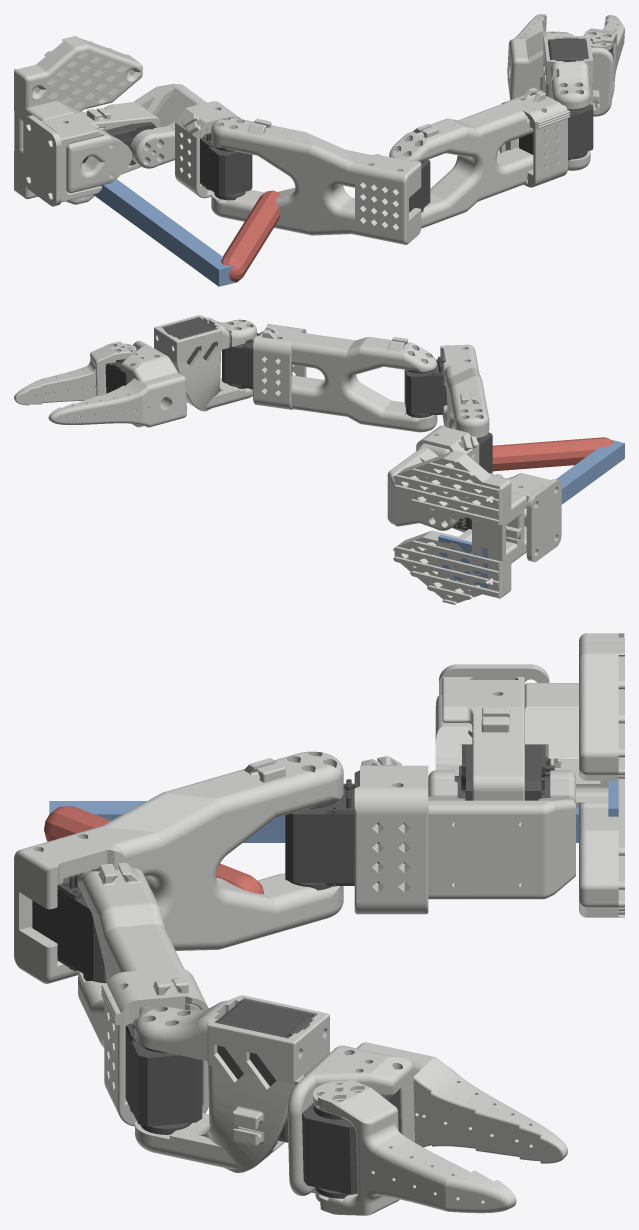
The model's file is so101_assembly.glb.
The picture shows the model from 3 angles, top to bottom: view 1: azimuth 30°, elevation 25°; view 2: azimuth 150°, elevation 25°; view 3: azimuth 270°, elevation 25°; orthographic projection. The views are drawn at different scales.
Visible parts, largest first — view 1: upper_arm_so101_v1, base_so101_v2, under_arm_so101_v1, muscle_mast, wrist_roll_follower_so101_v1, motor_holder_so101_wrist_v1, rotation_pitch_so101_v1, base_motor_holder_so101_v1, wrist_roll_pitch_so101_v2, waveshare_mounting_plate_so101_v2, motor_holder_so101_base_v1, sts3215_03a_v1_2 (+6 smaller); view 2: base_so101_v2, under_arm_so101_v1, wrist_roll_follower_so101_v1, wrist_roll_pitch_so101_v2, upper_arm_so101_v1, motor_holder_so101_wrist_v1, moving_jaw_so101_v1, mckibben_muscle, waveshare_mounting_plate_so101_v2, rotation_pitch_so101_v1, sts3215_03a_v1_3, muscle_mast (+7 smaller); view 3: upper_arm_so101_v1, base_so101_v2, wrist_roll_pitch_so101_v2, rotation_pitch_so101_v1, wrist_roll_follower_so101_v1, moving_jaw_so101_v1, motor_holder_so101_base_v1, under_arm_so101_v1, base_motor_holder_so101_v1, motor_holder_so101_wrist_v1, sts3215_03a_v1_4, sts3215_03a_v1_2 (+7 smaller).
Part boxes in pixels (box(x1,y1,x2,y2)): upper_arm_so101_v1: box(211, 117, 421, 244); base_so101_v2: box(14, 36, 142, 204); under_arm_so101_v1: box(389, 103, 533, 228); muscle_mast: box(93, 179, 235, 286); wrist_roll_follower_so101_v1: box(507, 14, 613, 116); motor_holder_so101_wrist_v1: box(499, 87, 569, 187); rotation_pitch_so101_v1: box(104, 83, 211, 168); base_motor_holder_so101_v1: box(41, 106, 159, 202); wrist_roll_pitch_so101_v2: box(542, 35, 599, 170); waveshare_mounting_plate_so101_v2: box(23, 115, 61, 206); motor_holder_so101_base_v1: box(175, 101, 240, 198); sts3215_03a_v1_2: box(200, 132, 252, 200); base_so101_v2: box(393, 451, 526, 604); under_arm_so101_v1: box(263, 332, 437, 432); wrist_roll_follower_so101_v1: box(48, 341, 186, 427); wrist_roll_pitch_so101_v2: box(154, 315, 256, 411); upper_arm_so101_v1: box(440, 344, 489, 437); motor_holder_so101_wrist_v1: box(253, 324, 306, 409); moving_jaw_so101_v1: box(14, 341, 136, 405); mckibben_muscle: box(492, 437, 613, 471); waveshare_mounting_plate_so101_v2: box(526, 479, 561, 562); rotation_pitch_so101_v1: box(387, 443, 459, 530); sts3215_03a_v1_3: box(404, 356, 447, 417); muscle_mast: box(455, 440, 624, 567); upper_arm_so101_v1: box(14, 751, 343, 983); base_so101_v2: box(435, 633, 624, 917); wrist_roll_pitch_so101_v2: box(135, 995, 329, 1172); rotation_pitch_so101_v1: box(374, 770, 575, 899); wrist_roll_follower_so101_v1: box(287, 1042, 567, 1195); moving_jaw_so101_v1: box(313, 1079, 516, 1215); motor_holder_so101_base_v1: box(354, 756, 428, 914); under_arm_so101_v1: box(78, 862, 200, 1047); base_motor_holder_so101_v1: box(442, 677, 524, 800); motor_holder_so101_wrist_v1: box(101, 967, 208, 1126); sts3215_03a_v1_4: box(125, 1019, 202, 1134); sts3215_03a_v1_2: box(285, 779, 404, 890).
Size of the model in its own units: 428 by 111 by 232.
